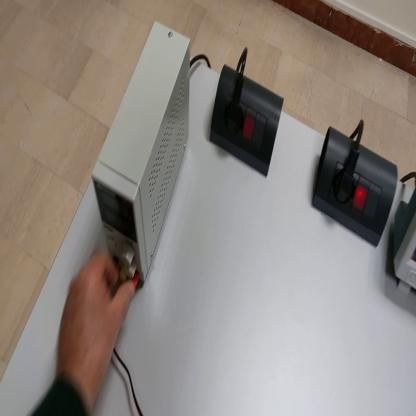hand: (56, 249, 136, 399)
oscilloscope: (390, 185, 416, 297)
power supply: (94, 19, 193, 281)
socket: (308, 124, 399, 250), (210, 63, 285, 181)
